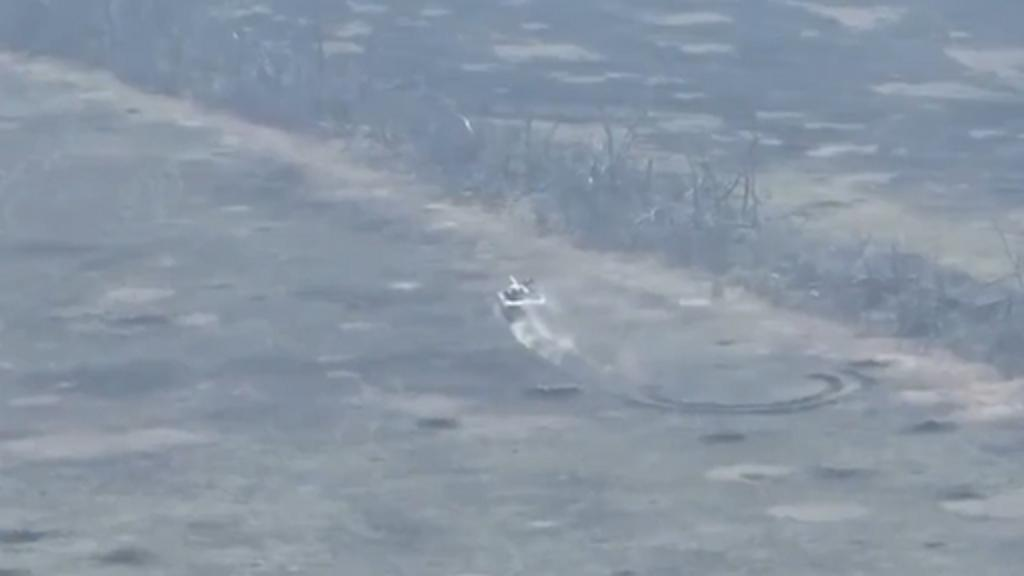TANK: (490, 270, 550, 320)
